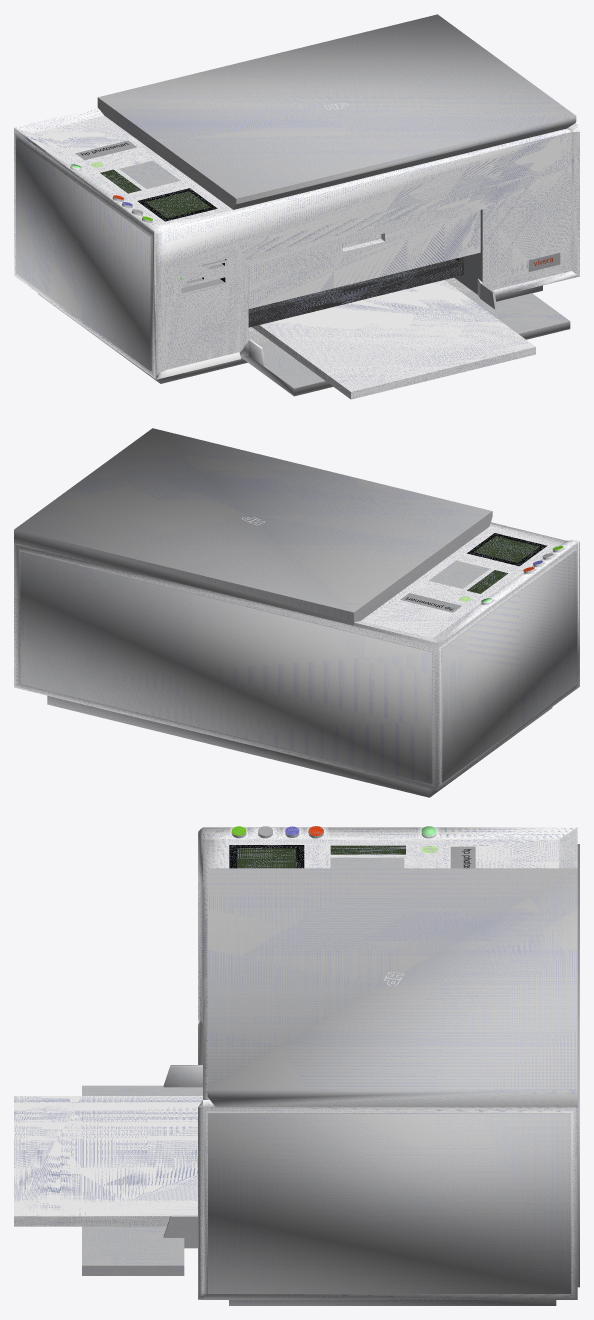
File: printer.dae
The picture shows the model from 3 angles, top to bottom: view 1: azimuth 30°, elevation 25°; view 2: azimuth 150°, elevation 25°; view 3: azimuth 270°, elevation 25°; orthographic projection. The views are drawn at different scales.
Visible parts, largest first — view 1: SketchUp (×14); view 2: SketchUp (×9); view 3: SketchUp (×10).
Part boxes in pixels (x1=…): SketchUp (×14): x1=14, y1=14, x2=579, y2=399; SketchUp (×9): x1=14, y1=428, x2=579, y2=797; SketchUp (×10): x1=14, y1=827, x2=579, y2=1305.
Size of the model in its own units: 15.82 by 13.62 by 6.18.
